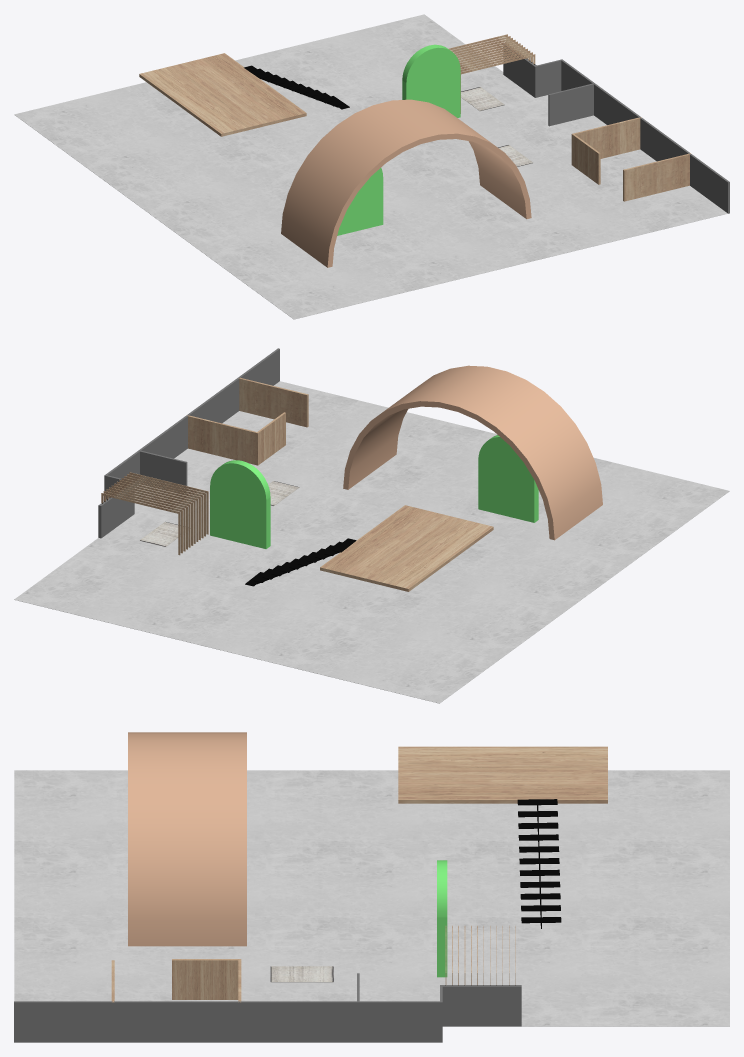
The picture shows the model from 3 angles, top to bottom: view 1: azimuth 30°, elevation 25°; view 2: azimuth 150°, elevation 25°; view 3: azimuth 270°, elevation 25°; orthographic projection. The views are drawn at different scales.
Parts seen in each view (by area): view 1: Box026, Box031, Box032, Box002, Cylinder002, Box027, Box028, Cylinder001, StraightStair001, Box030; view 2: Box026, Box031, Box032, Box002, Cylinder002, Cylinder001, Box027, Box028, StraightStair001, Box030; view 3: Box026, Box031, Box002, Box032, StraightStair001, Box027, Cylinder002, Box029.
Part boxes in pixels (bbox=[...]): Box026: bbox=[14, 14, 727, 319]; Box031: bbox=[281, 99, 531, 267]; Box032: bbox=[139, 53, 306, 136]; Box002: bbox=[503, 44, 729, 213]; Cylinder002: bbox=[402, 44, 460, 117]; Box027: bbox=[571, 117, 641, 184]; Box028: bbox=[623, 153, 690, 201]; Cylinder001: bbox=[337, 167, 383, 235]; StraightStair001: bbox=[244, 65, 349, 109]; Box030: bbox=[461, 87, 504, 111]; Box026: bbox=[14, 381, 729, 703]; Box031: bbox=[343, 365, 602, 540]; Box032: bbox=[320, 505, 493, 591]; Box002: bbox=[98, 348, 279, 538]; Cylinder002: bbox=[210, 460, 270, 548]; Cylinder001: bbox=[478, 435, 538, 522]; Box027: bbox=[186, 412, 285, 465]; Box028: bbox=[238, 377, 308, 427]; StraightStair001: bbox=[245, 538, 356, 586]; Box030: bbox=[140, 521, 190, 546]; Box026: bbox=[14, 770, 729, 1026]; Box031: bbox=[128, 732, 246, 946]; Box002: bbox=[14, 973, 521, 1042]; Box032: bbox=[398, 746, 607, 803]; StraightStair001: bbox=[517, 799, 561, 928]; Box027: bbox=[172, 959, 241, 1002]; Cylinder002: bbox=[437, 860, 447, 977]; Box029: bbox=[270, 966, 333, 982].
Size of the model in its own units: 1805 by 431 by 2009.
